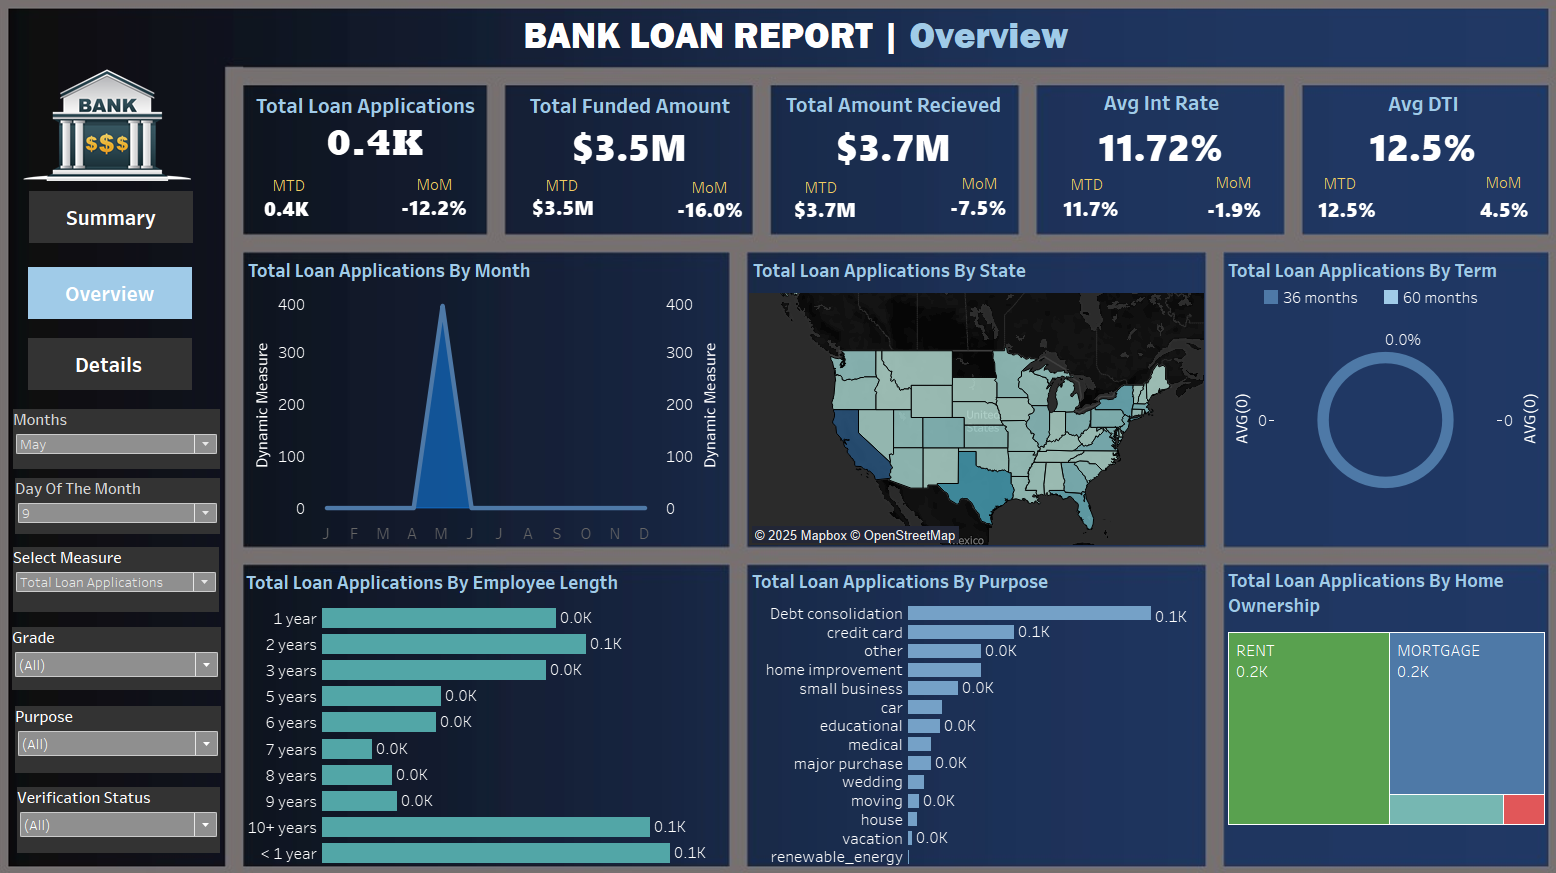

The page's visual inventory and layout, read from the dashboard file:
{"tool":"tableau","page":{"name":"Overview","canvas":[1600,900],"ordinal":1},"visuals":[{"type":"text","box":[532,6,614,84]},{"type":"image","param":"Image/Tableau Background 2.jpg","box":[8,8,1584,884]},{"type":"image","param":"Image/R.png","box":[35,82,187,112]},{"type":"worksheet","title":"Avg Int Rate","mark":"Automatic","box":[1048,97,251,84]},{"type":"worksheet","title":"Avg DTI","mark":"Automatic","box":[1312,98,247,82]},{"type":"worksheet","title":"Total Amount Recieved","mark":"Automatic","box":[768,99,275,79]},{"type":"worksheet","title":"Total Loan Applications","mark":"Automatic","box":[264,100,247,70]},{"type":"worksheet","title":"Total Funded Amount","mark":"Automatic","box":[519,100,246,77]},{"type":"text","box":[1224,180,100,30]},{"type":"text","box":[1494,180,100,30]},{"type":"text","box":[970,181,100,30]},{"type":"text","box":[1332,181,100,30]},{"type":"text","box":[425,182,50,30]},{"type":"text","box":[1079,182,100,30]},{"type":"text","box":[554,183,100,30]},{"type":"text","box":[700,185,100,30]},{"type":"text","box":[813,185,100,30]},{"type":"text","box":[281,190,48,17]},{"type":"worksheet","title":"MTD Total Funded Amount ","mark":"Automatic","box":[531,198,90,45]},{"type":"worksheet","title":"MTD Avg DTI","mark":"Automatic","box":[1304,200,111,44]},{"type":"worksheet","title":"MTD Total Amount Recieved","mark":"Automatic","box":[764,202,147,41]},{"type":"worksheet","title":"MTD Avg int rate","mark":"Automatic","box":[1053,202,100,38]},{"type":"worksheet","title":"Mom Total Amount Recieved ","mark":"Automatic","box":[928,203,125,35]},{"type":"dashboard-object","box":[41,204,164,52]},{"type":"worksheet","title":"MoM Avg DTI ","mark":"Automatic","box":[1475,204,83,36]},{"type":"worksheet","title":"MoM Loan Applications","mark":"Automatic","box":[397,206,99,28]},{"type":"worksheet","title":"MoM Total Funded Amount","mark":"Automatic","box":[646,206,153,32]},{"type":"worksheet","title":"MoM Avg Int Rate","mark":"Automatic","box":[1196,206,101,32]},{"type":"worksheet","title":"MTD Total Loan Applications","mark":"Automatic","box":[246,213,105,17]},{"type":"worksheet","title":"Months","mark":"Automatic","rows":["Calculation_1333065525715345447","Calculation_1333065525715345447"],"cols":["issue_date"],"box":[256,266,483,292]},{"type":"worksheet","title":"State","mark":"Automatic","box":[761,266,455,292]},{"type":"worksheet","title":"Term","mark":"Pie","rows":["Calculation_1333065525728280617","Calculation_1333065525728280617"],"box":[1236,266,323,294]},{"type":"dashboard-object","box":[40,280,164,52]},{"type":"legend","title":"Term","param":"[federated.0cqz1ge0lgt4j6104cgw00c967ol].[none:term:nk]","box":[1273,300,292,64]},{"type":"dashboard-object","box":[40,351,164,52]},{"type":"parameter","param":"[Parameters].[Issue Date (copy) (Months) Parameter]","box":[25,422,207,60]},{"type":"parameter","param":"[Parameters].[Date Parameter]","box":[27,491,205,56]},{"type":"parameter","param":"[Parameters].[Parameter 1]","box":[25,560,206,65]},{"type":"worksheet","title":"Home Ownership","mark":"Automatic","box":[1236,576,324,303]},{"type":"worksheet","title":"Purpose","mark":"Automatic","rows":["purpose"],"cols":["Calculation_1333065525715345447"],"box":[760,577,457,302]},{"type":"worksheet","title":"Emp Length","mark":"Automatic","rows":["emp_length"],"cols":["Calculation_1333065525715345447"],"box":[254,578,488,301]},{"type":"filter","title":"Avg DTI","param":"[federated.0cqz1ge0lgt4j6104cgw00c967ol].[none:grade:nk]","box":[24,640,209,63]},{"type":"filter","title":"Avg DTI","param":"[federated.0cqz1ge0lgt4j6104cgw00c967ol].[none:purpose:nk]","box":[27,719,206,67]},{"type":"filter","title":"Avg DTI","param":"[federated.0cqz1ge0lgt4j6104cgw00c967ol].[none:verification_status:nk]","box":[29,800,203,66]}]}

Visuals, with their boxes in screenshot pixels (x1, y1, x2, y2), scaled from the page's 1600x900 canvas onto the 1556x873 screenshot:
text: box(517, 6, 1114, 87)
image: box(8, 8, 1548, 865)
image: box(34, 80, 216, 188)
"Avg Int Rate" worksheet: box(1019, 94, 1263, 176)
"Avg DTI" worksheet: box(1276, 95, 1516, 175)
"Total Amount Recieved" worksheet: box(747, 96, 1014, 173)
"Total Loan Applications" worksheet: box(257, 97, 497, 165)
"Total Funded Amount" worksheet: box(505, 97, 744, 172)
text: box(1190, 175, 1288, 204)
text: box(1453, 175, 1550, 204)
text: box(943, 176, 1041, 205)
text: box(1295, 176, 1393, 205)
text: box(413, 177, 462, 206)
text: box(1049, 177, 1147, 206)
text: box(539, 178, 636, 207)
text: box(681, 179, 778, 209)
text: box(791, 179, 888, 209)
text: box(273, 184, 320, 201)
"MTD Total Funded Amount " worksheet: box(516, 192, 604, 236)
"MTD Avg DTI" worksheet: box(1268, 194, 1376, 237)
"MTD Total Amount Recieved" worksheet: box(743, 196, 886, 236)
"MTD Avg int rate" worksheet: box(1024, 196, 1121, 233)
"Mom Total Amount Recieved " worksheet: box(902, 197, 1024, 231)
dashboard-object: box(40, 198, 199, 248)
"MoM Avg DTI " worksheet: box(1434, 198, 1515, 233)
"MoM Loan Applications" worksheet: box(386, 200, 482, 227)
"MoM Total Funded Amount" worksheet: box(628, 200, 777, 231)
"MoM Avg Int Rate" worksheet: box(1163, 200, 1261, 231)
"MTD Total Loan Applications" worksheet: box(239, 207, 341, 223)
"Months" worksheet: box(249, 258, 719, 541)
"State" worksheet: box(740, 258, 1183, 541)
"Term" worksheet (Pie marks): box(1202, 258, 1516, 543)
dashboard-object: box(39, 272, 198, 322)
"Term" legend: box(1238, 291, 1522, 353)
dashboard-object: box(39, 340, 198, 391)
parameter: box(24, 409, 226, 468)
parameter: box(26, 476, 226, 531)
parameter: box(24, 543, 225, 606)
"Home Ownership" worksheet: box(1202, 559, 1517, 853)
"Purpose" worksheet: box(739, 560, 1184, 853)
"Emp Length" worksheet: box(247, 561, 722, 853)
"Avg DTI" filter: box(23, 621, 227, 682)
"Avg DTI" filter: box(26, 697, 227, 762)
"Avg DTI" filter: box(28, 776, 226, 840)
